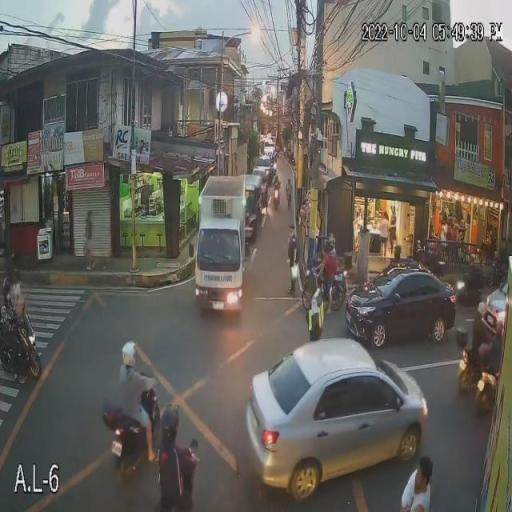helmet: (155, 400, 188, 448), (117, 339, 145, 369)
motorcycle: (100, 369, 162, 493), (154, 436, 204, 512)
rider: (110, 362, 158, 465), (148, 440, 199, 509)
